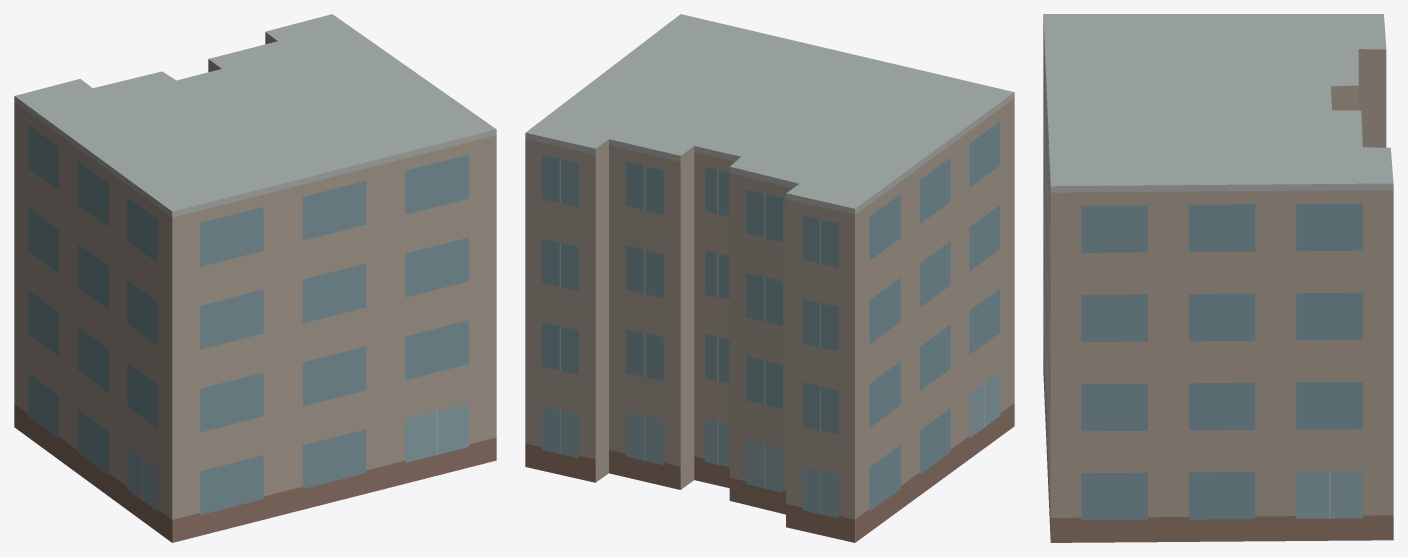
Rendered from survey-upis-32494961.glb.
3 views of the same model, side by side, from view 1: azimuth 30°, elevation 25°; view 2: azimuth 150°, elevation 25°; view 3: azimuth 270°, elevation 25° (orthographic). The views are drawn at different scales.
Parts seen in each view (by area): view 1: survey-upis-32494961.tmp; view 2: survey-upis-32494961.tmp; view 3: survey-upis-32494961.tmp.
Boxes of the visible parts, <box> form: survey-upis-32494961.tmp: <box>14,14,496,542</box>; survey-upis-32494961.tmp: <box>525,14,1014,542</box>; survey-upis-32494961.tmp: <box>1043,14,1393,542</box>.
Bounding box in the file's own units: 13.93 × 13.45 × 11.97.
